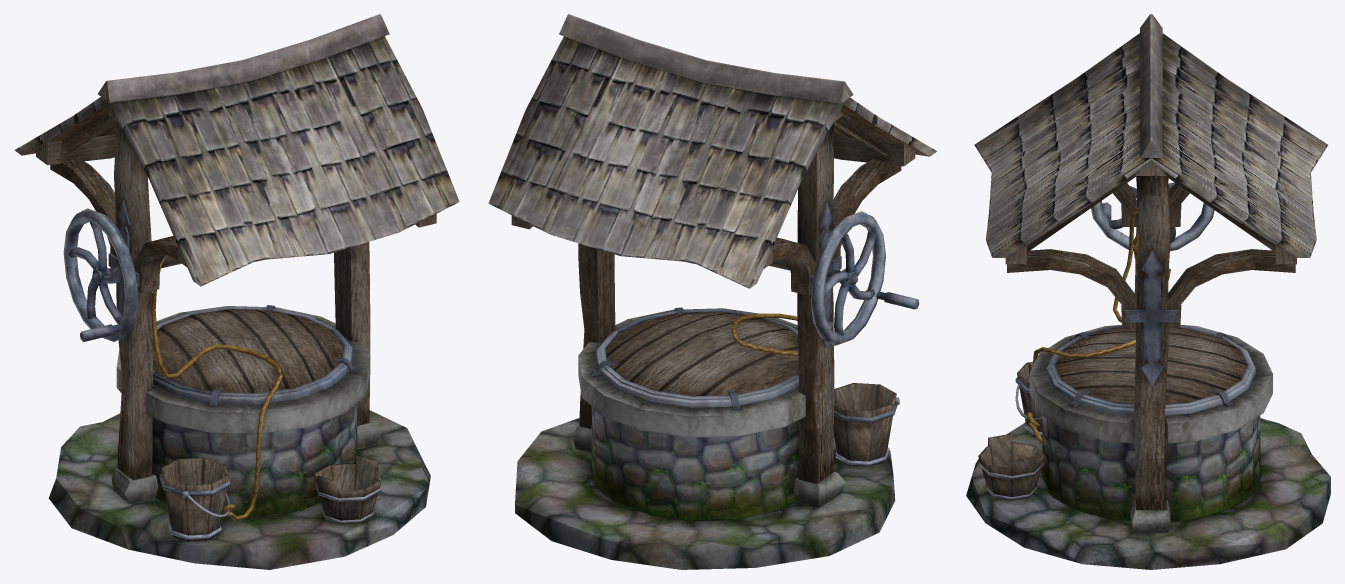
File: Well-1.FBX
3 renders of one model, left to right at view 1: azimuth 30°, elevation 25°; view 2: azimuth 150°, elevation 25°; view 3: azimuth 270°, elevation 25°, orthographic. The views are drawn at different scales.
Parts seen in each view (by area): view 1: Well; view 2: Well; view 3: Well.
Part boxes in pixels (left/top/right/bottom): Well: left=14, top=14, right=459, bottom=569; Well: left=488, top=14, right=936, bottom=569; Well: left=966, top=14, right=1330, bottom=569.
Size of the model in its own units: 119 by 143 by 114.
